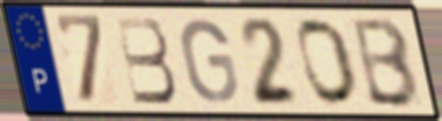2: (236, 14, 302, 108)
7: (53, 12, 108, 107)
B: (351, 15, 423, 111), (112, 14, 180, 107)
G: (178, 17, 241, 106)
O: (295, 15, 361, 109)
